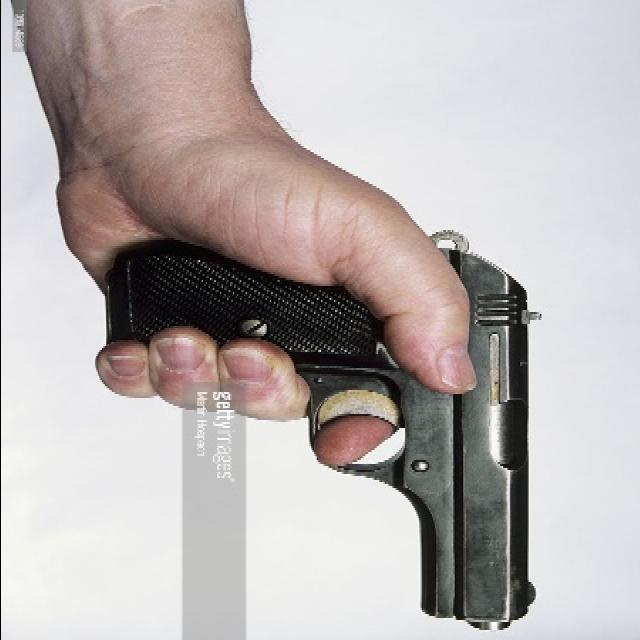handgun: (103, 229, 549, 629)
